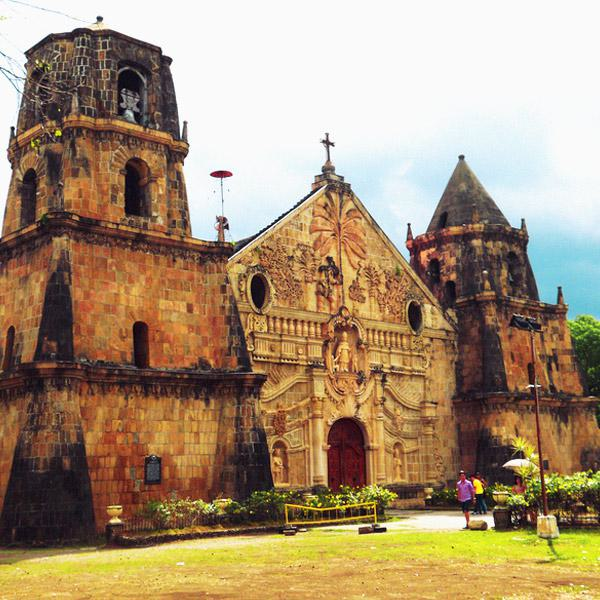Environmental Damage: (2, 53, 81, 148)
Miagao Church: (4, 19, 600, 514)
